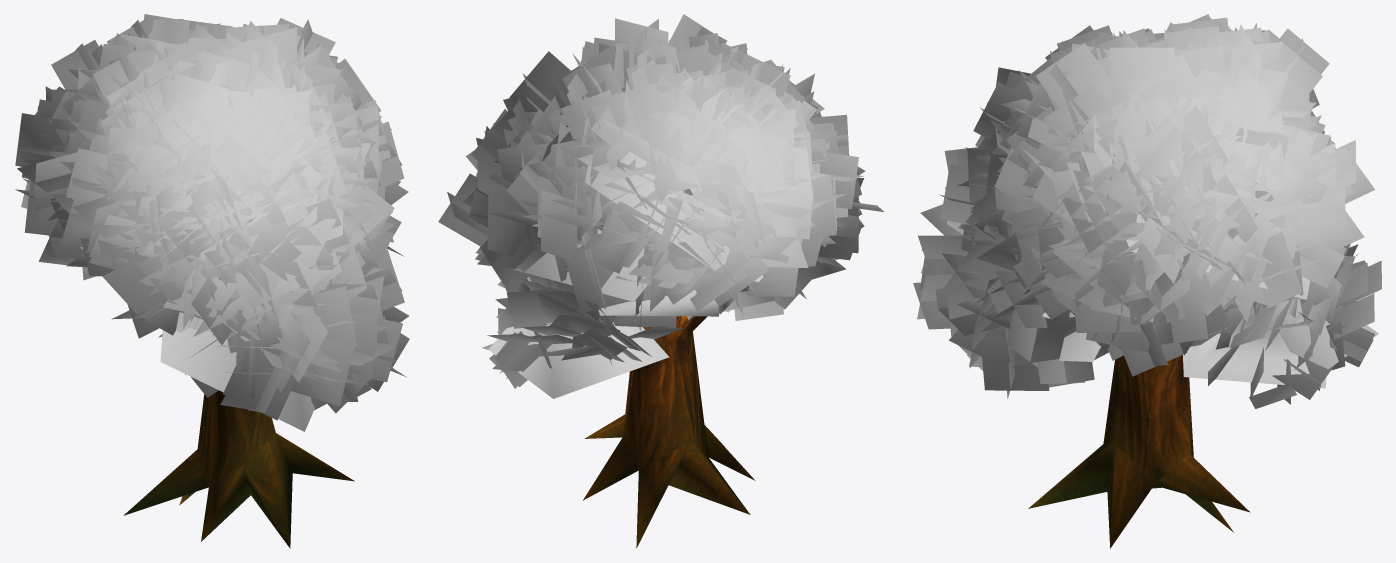
The model's file is Large_Tree_01_2.0.fbx.
The picture shows the model from 3 angles, left to right: view 1: azimuth 30°, elevation 25°; view 2: azimuth 150°, elevation 25°; view 3: azimuth 270°, elevation 25°; orthographic projection. The views are drawn at different scales.
Parts seen in each view (by area): view 1: Tree01_LOD0; view 2: Tree01_LOD0; view 3: Tree01_LOD0.
Part boxes in pixels (x1,y1,x2,y2): Tree01_LOD0: (15, 14, 409, 548); Tree01_LOD0: (438, 14, 883, 548); Tree01_LOD0: (913, 14, 1381, 548).
Size of what is drawn, in the model's own units: 735 by 992 by 833.
